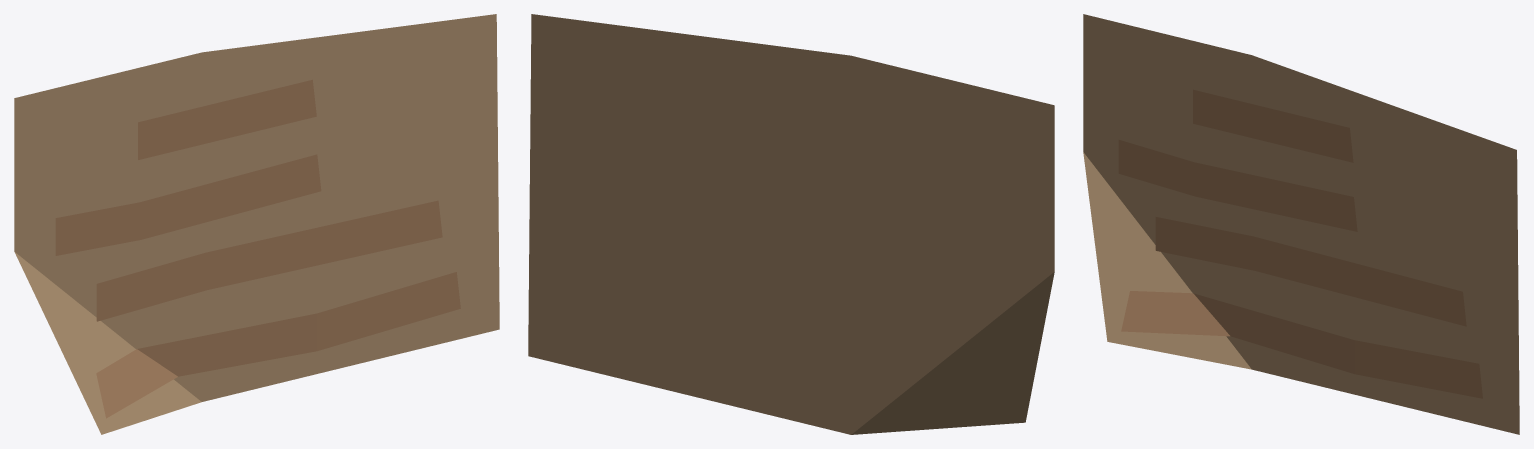
File: SM_Note_C.gltf
3 views of the same model, side by side, from view 1: azimuth 30°, elevation 25°; view 2: azimuth 150°, elevation 25°; view 3: azimuth 330°, elevation 25° (orthographic). The views are drawn at different scales.
Parts seen in each view (by area): view 1: SM_Note_C; view 2: SM_Note_C; view 3: SM_Note_C.
Boxes of the visible parts, left/top/right/bottom form: SM_Note_C: left=14, top=14, right=499, bottom=434; SM_Note_C: left=528, top=14, right=1054, bottom=434; SM_Note_C: left=1083, top=14, right=1519, bottom=434.
Bounding box in the file's own units: 0.2848 × 0.196 × 0.0307.
Materials: 1 (1 with a texture image).
